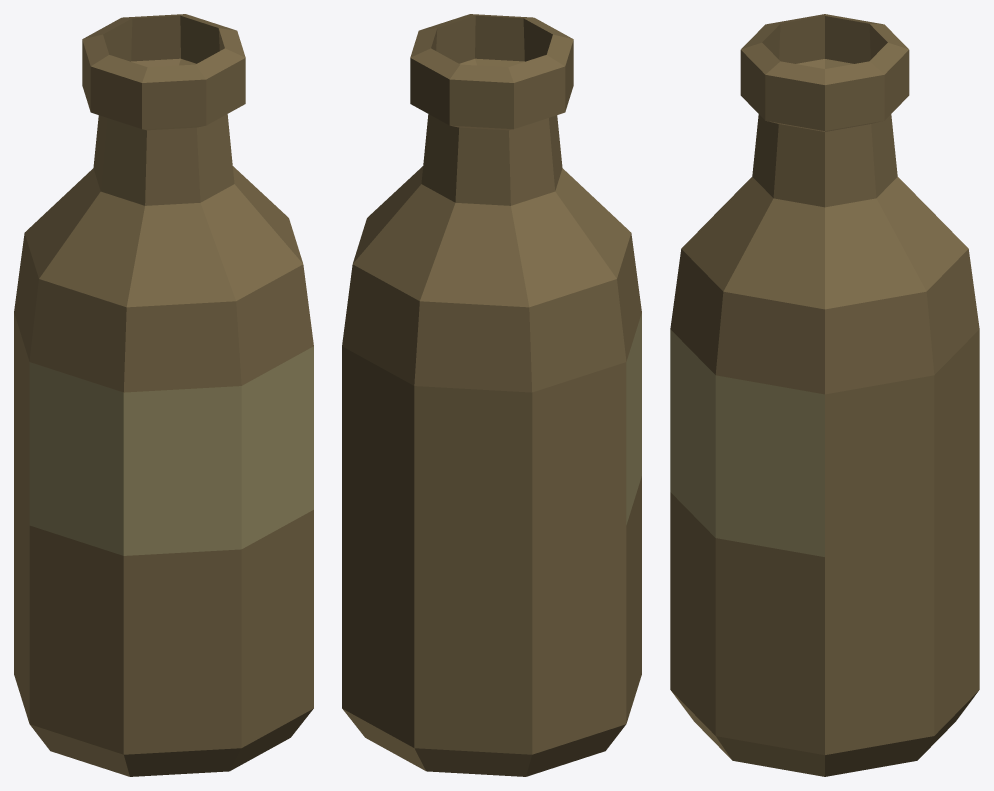
File: Bottle_3.fbx
3 views of the same model, side by side, from view 1: azimuth 30°, elevation 25°; view 2: azimuth 150°, elevation 25°; view 3: azimuth 270°, elevation 25° (orthographic).
Parts seen in each view (by area): view 1: Bottle_3; view 2: Bottle_3; view 3: Bottle_3.
Boxes of the visible parts, x1,y1,x2,y2 form: Bottle_3: (14, 14, 313, 776); Bottle_3: (342, 14, 641, 776); Bottle_3: (670, 14, 979, 776).
Bounding box in the file's own units: 9.2 × 22.3 × 9.2.
